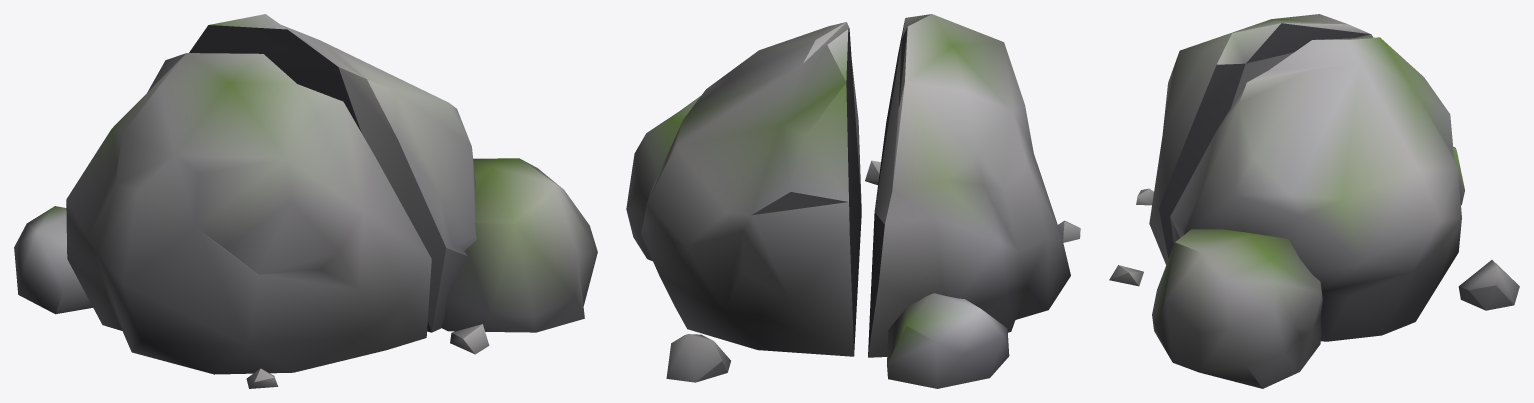
File: rock-cracked-low.glb
3 views of the same model, side by side, from view 1: azimuth 30°, elevation 25°; view 2: azimuth 150°, elevation 25°; view 3: azimuth 270°, elevation 25° (orthographic). The views are drawn at different scales.
Visible parts, largest first — view 1: 0_rock.001; view 2: 0_rock.001; view 3: 0_rock.001.
Part boxes in pixels (x1,y1,x2,y2): 0_rock.001: [14, 14, 597, 388]; 0_rock.001: [626, 14, 1080, 388]; 0_rock.001: [1109, 14, 1519, 388].
Size of the model in its own units: 2.55 by 1.51 by 2.28.
